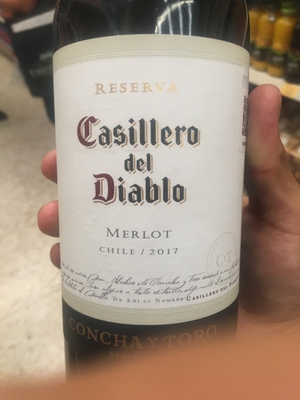casillero del diablo merlot: (46, 2, 277, 400)
